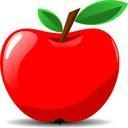apple: (1, 7, 120, 123)
